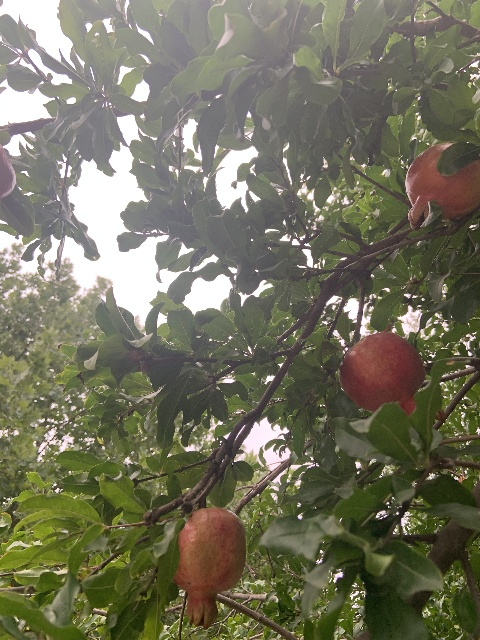ripe: (173, 506, 246, 628), (339, 331, 424, 416), (405, 142, 480, 229), (0, 121, 15, 242)
